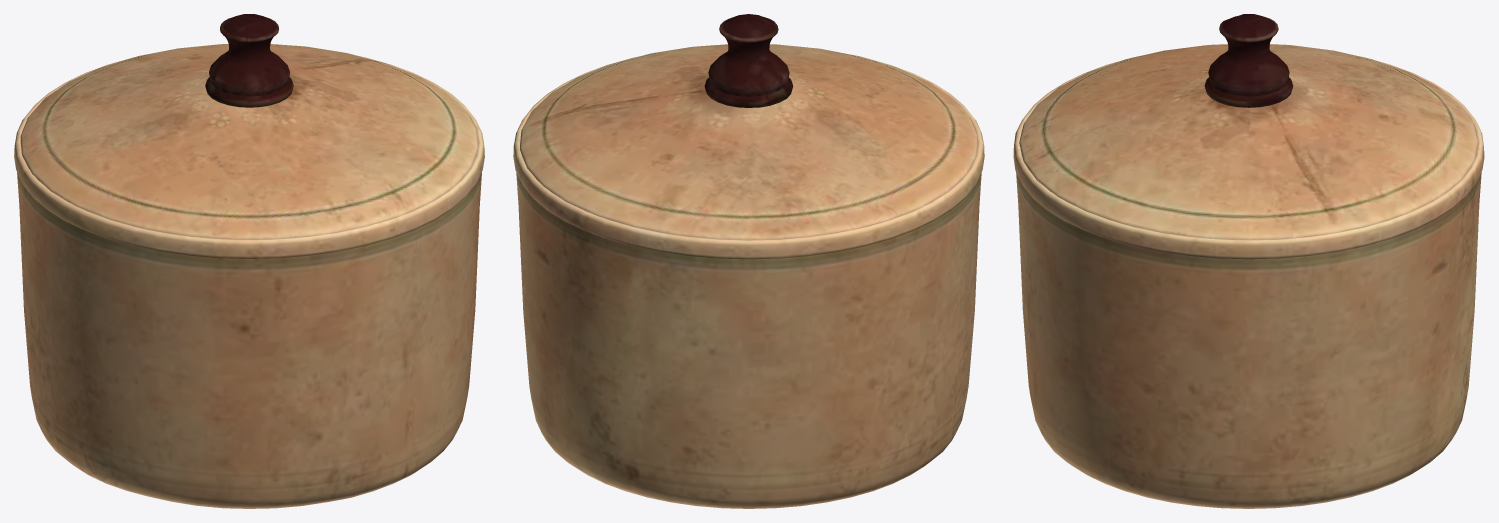
The model's file is brass_pot_01.glb.
3 views of the same model, side by side, from view 1: azimuth 30°, elevation 25°; view 2: azimuth 150°, elevation 25°; view 3: azimuth 270°, elevation 25° (orthographic).
Visible parts, largest first — view 1: brass_pot_01; view 2: brass_pot_01; view 3: brass_pot_01.
Part boxes in pixels (x1,y1,x2,y2): brass_pot_01: (14,14,484,508); brass_pot_01: (513,14,984,508); brass_pot_01: (1013,14,1484,508).
Bounding box in the file's own units: 0.3019 × 0.2909 × 0.3017.
Materials: 1 (1 with a texture image).
